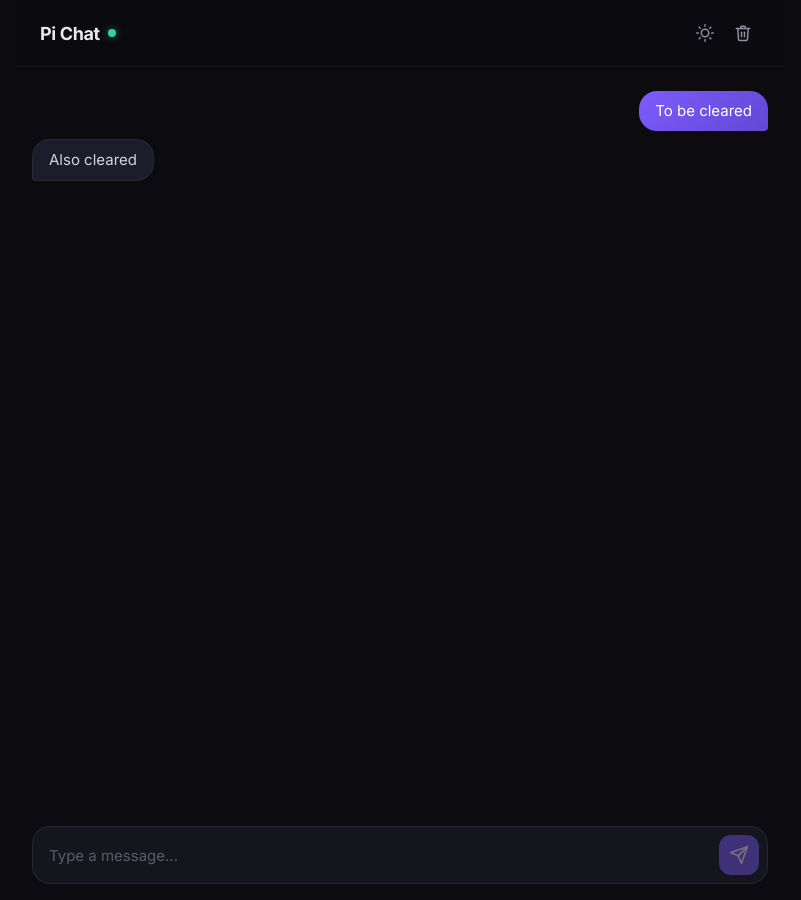
Test: ChatApp › clears history when clear button is clicked
Check: the text "To be cleared" is shown, box x1=655 y1=99 x2=752 y2=123
Click the button named "Clear conversation history". click: (743,33)
box: x1=726 y1=16 x2=760 y2=50
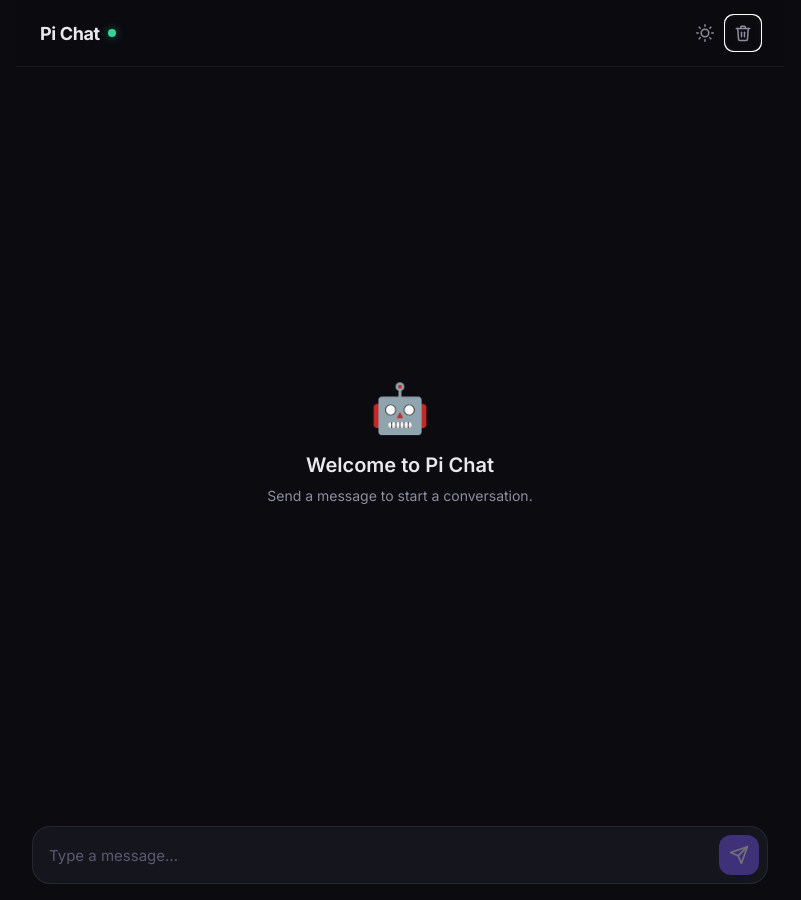
Check: the text "To be cleared" is gone
Check: the text "Also cleared" is gone
